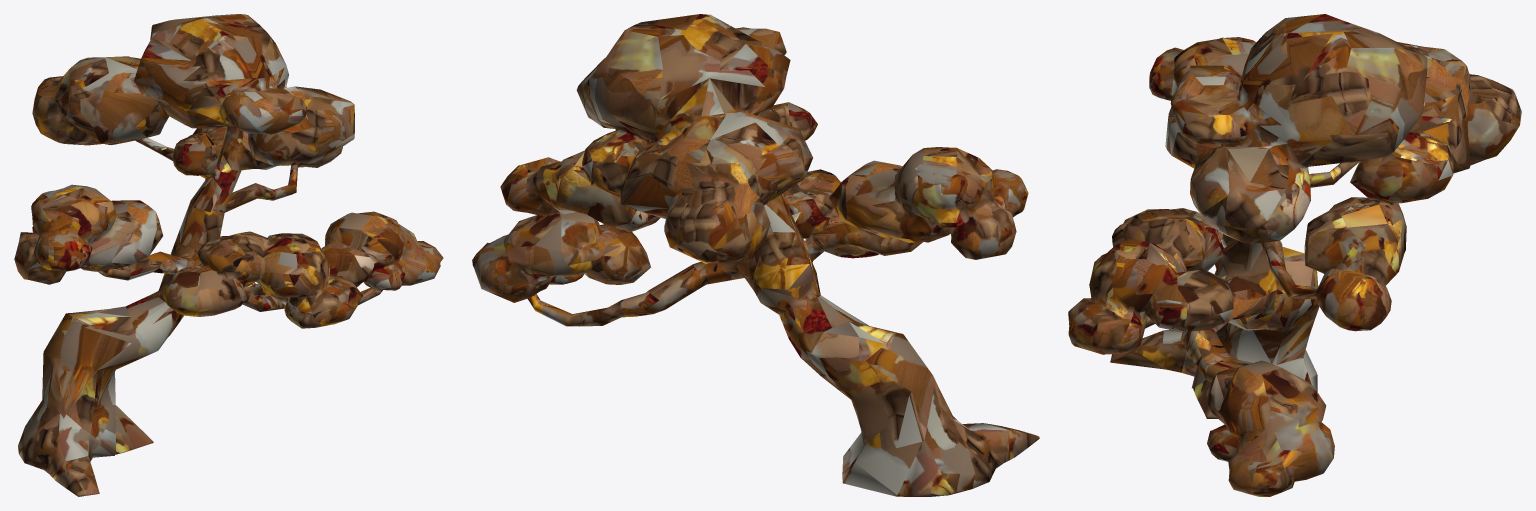
Rendered from treebake2.fbx.
3 views of the same model, side by side, from view 1: azimuth 30°, elevation 25°; view 2: azimuth 150°, elevation 25°; view 3: azimuth 270°, elevation 25° (orthographic). The views are drawn at different scales.
Visible parts, largest first — view 1: Mesh_0; view 2: Mesh_0; view 3: Mesh_0.
Part boxes in pixels (<box>): Mesh_0: <box>14,14,443,496</box>; Mesh_0: <box>472,14,1039,496</box>; Mesh_0: <box>1068,14,1521,496</box>.
Size of the model in its own units: 191 by 150 by 138.
